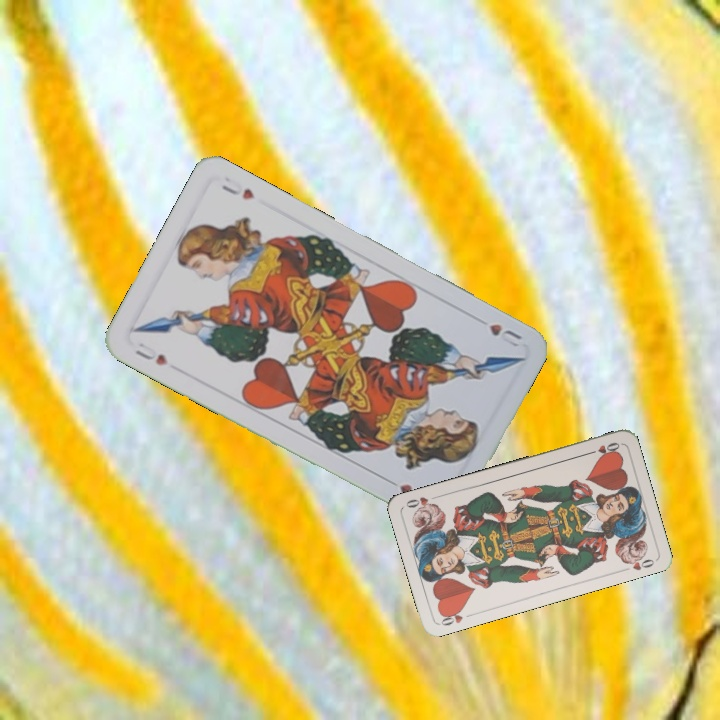HO: (583, 438, 622, 458), (437, 604, 466, 628)
HU: (131, 338, 171, 369), (485, 319, 525, 350)
